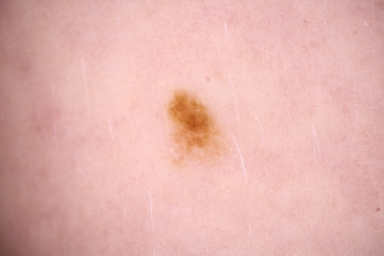nevus: (168, 91, 216, 163)
